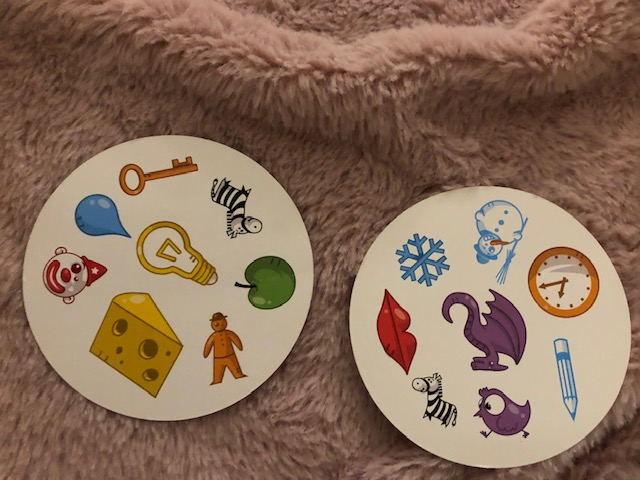ampoule: (132, 218, 220, 290)
bonhomme: (198, 307, 248, 385)
bonhomme_neige: (468, 199, 530, 285)
bouche: (375, 288, 419, 378)
cle: (115, 154, 205, 199)
clown: (39, 247, 105, 303)
crayon: (545, 334, 583, 421)
dragon: (441, 288, 529, 372)
flocon: (392, 229, 454, 292)
fromage: (86, 285, 187, 396)
goutte: (68, 189, 135, 241)
horloge: (526, 242, 598, 319)
oiseau: (471, 385, 534, 441)
pomme: (233, 251, 301, 314)
zebre: (208, 176, 266, 243), (410, 369, 461, 433)
